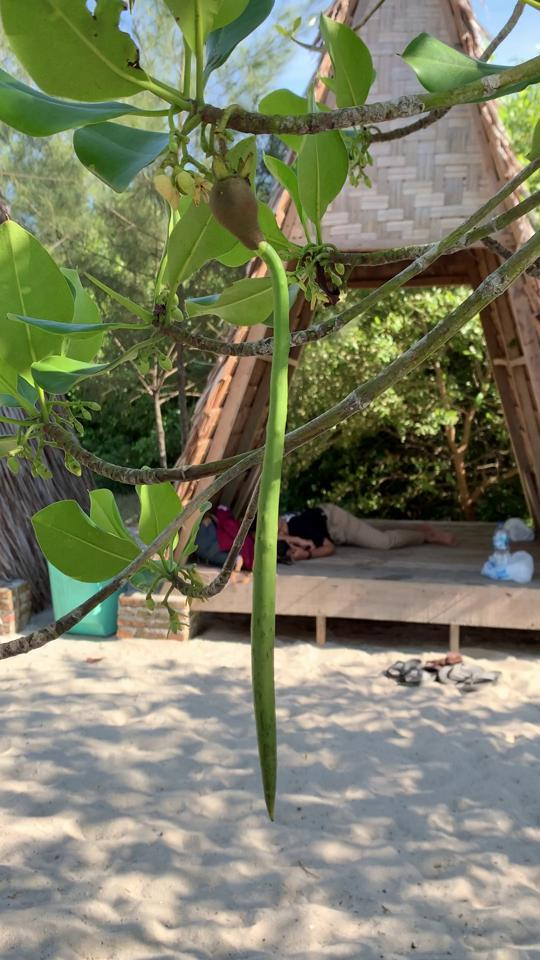setengah matang: (196, 153, 297, 833)
